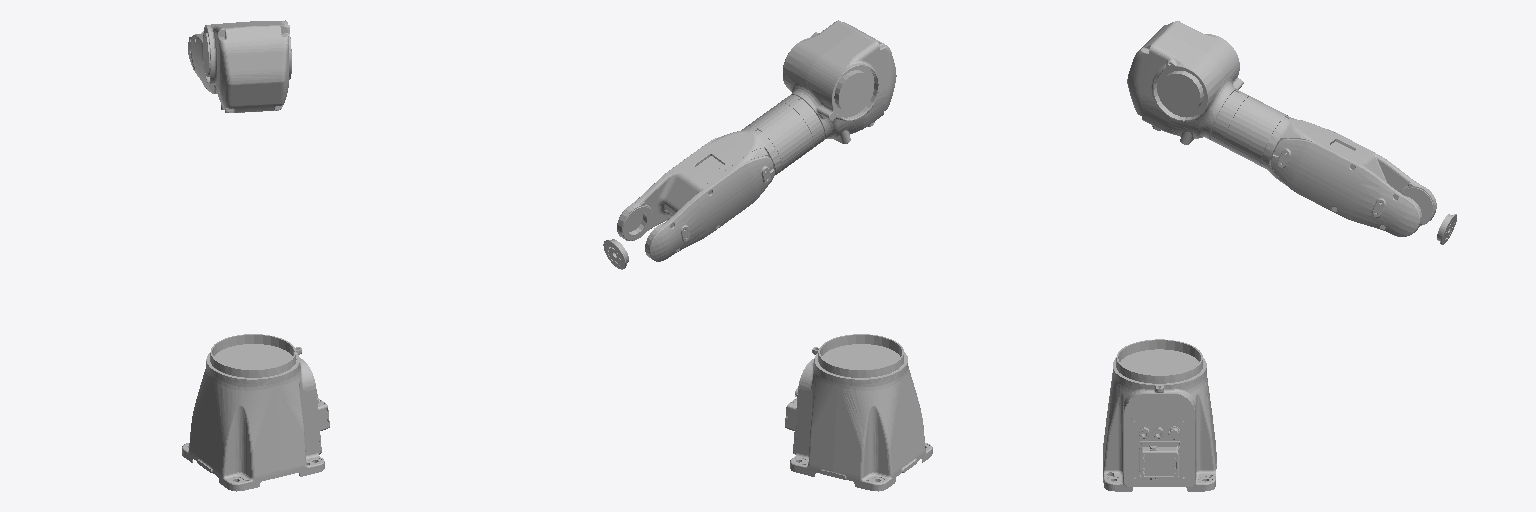
URDF robot description (GP7Robot):
<?xml version="1.0" encoding="utf-8"?>
<!-- This URDF was automatically created by SolidWorks to URDF Exporter! Originally created by Stephen Brawner (brawner@gmail.com) 
     Commit Version: 1.6.0-4-g7f85cfe  Build Version: 1.6.7995.38578
     For more information, please see http://wiki.ros.org/sw_urdf_exporter -->
<robot
  name="GP7Robot">
  <link
    name="base_link">
    <inertial>
      <origin
        xyz="0.00557004423745245 0.0947578598994955 1.25475616866969E-06"
        rpy="0 0 0" />
      <mass
        value="5.21535720192103" />
      <inertia
        ixx="0.0260255175008665"
        ixy="-0.000139873884280872"
        ixz="2.60386324335201E-05"
        iyy="0.0217201855959046"
        iyz="-4.77039716223905E-05"
        izz="0.0252947855021259" />
    </inertial>
    <visual>
      <origin
        xyz="0 0 0"
        rpy="0 0 0" />
      <geometry>
        <mesh
          filename="package://gp7robot_description/meshes/base_link.STL" />
      </geometry>
      <material
        name="">
        <color
          rgba="0.752941176470588 0.752941176470588 0.752941176470588 1" />
      </material>
    </visual>
    <collision>
      <origin
        xyz="0 0 0"
        rpy="0 0 0" />
      <geometry>
        <mesh
          filename="package://gp7robot_description/meshes/base_link.STL" />
      </geometry>
    </collision>
  </link>
  <link
    name="Link 1">
    <inertial>
      <origin
        xyz="0.000135175847371076 0.0998493397055882 -0.0156725278400625"
        rpy="0 0 0" />
      <mass
        value="2.94466622383767" />
      <inertia
        ixx="0.0119470421524349"
        ixy="-1.20742927519864E-06"
        ixz="1.69439326616052E-06"
        iyy="0.00886872028402424"
        iyz="0.0021793031748369"
        izz="0.0111813537709403" />
    </inertial>
    <visual>
      <origin
        xyz="0 0 0"
        rpy="0 0 0" />
      <geometry>
        <mesh
          filename="package://gp7robot_description/meshes/Link 1.STL" />
      </geometry>
      <material
        name="">
        <color
          rgba="0.752941176470588 0.752941176470588 0.752941176470588 1" />
      </material>
    </visual>
    <collision>
      <origin
        xyz="0 0 0"
        rpy="0 0 0" />
      <geometry>
        <mesh
          filename="package://gp7robot_description/meshes/Link 1.STL" />
      </geometry>
    </collision>
  </link>
  <joint
    name="joint1"
    type="revolute">
    <origin
      xyz="0 0 0.190099999998071"
      rpy="1.5707963267949 0 2.74626231701148" />
    <parent
      link="base_link" />
    <child
      link="Link 1" />
    <axis
      xyz="0 1 0" />
    <limit
      lower="-1.76541379939274"
      upper="4.16870565738798"
      effort="100" velocity="2.0" />
  </joint>
  <link
    name="Link2">
    <inertial>
      <origin
        xyz="0.0276250394014396 0.000201786774108381 -0.194989270302389"
        rpy="0 0 0" />
      <mass
        value="6.24053510551982" />
      <inertia
        ixx="0.126299168537797"
        ixy="4.28260764259725E-05"
        ixz="-0.000192709075161321"
        iyy="0.110519808755977"
        iyz="0.000482712485627823"
        izz="0.0277564679772804" />
    </inertial>
    <visual>
      <origin
        xyz="0 0 0"
        rpy="0 0 0" />
      <geometry>
        <mesh
          filename="package://gp7robot_description/meshes/Link2.STL" />
      </geometry>
      <material
        name="">
        <color
          rgba="0.752941176470588 0.752941176470588 0.752941176470588 1" />
      </material>
    </visual>
    <collision>
      <origin
        xyz="0 0 0"
        rpy="0 0 0" />
      <geometry>
        <mesh
          filename="package://gp7robot_description/meshes/Link2.STL" />
      </geometry>
    </collision>
  </link>
  <joint
    name="Joint2"
    type="revolute">
    <origin
      xyz="0 0.139900000002421 -0.0400000001857544"
      rpy="3.14159265358528 -1.32485271953912 -1.57079632679068" />
    <parent
      link="Link 1" />
    <child
      link="Link2" />
    <axis
      xyz="0 1 0" />
    <limit
      lower="-1.38040762104709"
      upper="1.84845149514013"
      effort="100" velocity="2.0" />
  </joint>
  <link
    name="Link3">
    <inertial>
      <origin
        xyz="-0.0159082595376027 -0.000853249743919083 0.0200553785486537"
        rpy="0 0 0" />
      <mass
        value="2.84913837324111" />
      <inertia
        ixx="0.00823186831904539"
        ixy="2.89659835771153E-05"
        ixz="-0.000903653059816634"
        iyy="0.00779151300608256"
        iyz="-3.86482176480428E-05"
        izz="0.0069341741094685" />
    </inertial>
    <visual>
      <origin
        xyz="0 0 0"
        rpy="0 0 0" />
      <geometry>
        <mesh
          filename="package://gp7robot_description/meshes/Link3.STL" />
      </geometry>
      <material
        name="">
        <color
          rgba="0.752941176470588 0.752941176470588 0.752941176470588 1" />
      </material>
    </visual>
    <collision>
      <origin
        xyz="0 0 0"
        rpy="0 0 0" />
      <geometry>
        <mesh
          filename="package://gp7robot_description/meshes/Link3.STL" />
      </geometry>
    </collision>
  </link>
  <joint
    name="Joint3"
    type="revolute">
    <origin
      xyz="0 0 -0.44500000000018"
      rpy="0 -0.0907821564242992 0" />
    <parent
      link="Link2" />
    <child
      link="Link3" />
    <axis
      xyz="0 1 0" />
    <limit
      lower="-0.0837507687984118"
      upper="4.45410528641014"
      effort="100" velocity="2.0" />
  </joint>
  <link
    name="Link4">
    <inertial>
      <origin
        xyz="0.153693675039085 -0.000152617750926121 -0.000159483150896755"
        rpy="0 0 0" />
      <mass
        value="2.7553796365777" />
      <inertia
        ixx="0.00308591624378863"
        ixy="4.01240276807244E-06"
        ixz="-0.000318579817117978"
        iyy="0.0100845047615701"
        iyz="-2.48127439930312E-06"
        izz="0.0107849938934048" />
    </inertial>
    <visual>
      <origin
        xyz="0 0 0"
        rpy="0 0 0" />
      <geometry>
        <mesh
          filename="package://gp7robot_description/meshes/Link4.STL" />
      </geometry>
      <material
        name="">
        <color
          rgba="0.752941176470588 0.752941176470588 0.752941176470588 1" />
      </material>
    </visual>
    <collision>
      <origin
        xyz="0 0 0"
        rpy="0 0 0" />
      <geometry>
        <mesh
          filename="package://gp7robot_description/meshes/Link4.STL" />
      </geometry>
    </collision>
  </link>
  <joint
    name="Join4"
    type="revolute">
    <origin
      xyz="0.0920740623311247 0 0.0399999999343004"
      rpy="-1.74532808563031 0 0" />
    <parent
      link="Link3" />
    <child
      link="Link4" />
    <axis
      xyz="1 0 0" />
    <limit
      lower="-3.31612557878923"
      upper="3.31612557878923"
      effort="100" velocity="2.0" />
  </joint>
  <link
    name="Link5">
    <inertial>
      <origin
        xyz="0.000253905179058656 0.0132104915143856 -0.00174847412765622"
        rpy="0 0 0" />
      <mass
        value="0.245886315027121" />
      <inertia
        ixx="0.00013953459466373"
        ixy="-2.11774099242541E-06"
        ixz="1.96195390391365E-07"
        iyy="0.000156835347527326"
        iyz="-1.29214249598E-06"
        izz="0.00018561687083866" />
    </inertial>
    <visual>
      <origin
        xyz="0 0 0"
        rpy="0 0 0" />
      <geometry>
        <mesh
          filename="package://gp7robot_description/meshes/Link5.STL" />
      </geometry>
      <material
        name="">
        <color
          rgba="0.752941176470588 0.752941176470588 0.752941176470588 1" />
      </material>
    </visual>
    <collision>
      <origin
        xyz="0 0 0"
        rpy="0 0 0" />
      <geometry>
        <mesh
          filename="package://gp7robot_description/meshes/Link5.STL" />
      </geometry>
    </collision>
  </link>
  <joint
    name="Join5"
    type="revolute">
    <origin
      xyz="0.347925937670314 0 0"
      rpy="-3.14159265358979 0 1.61712522694328" />
    <parent
      link="Link4" />
    <child
      link="Link5" />
    <axis
      xyz="0 0 -1" />
    <limit
      lower="-2.40252339028479"
      upper="2.30986559009995"
      effort="100" velocity="2.0" />
  </joint>
  <link
    name="Link6">
    <inertial>
      <origin
        xyz="0.0152208875675307 -6.62017430815842E-05 -9.17237854280994E-06"
        rpy="0 0 0" />
      <mass
        value="0.0241915724295805" />
      <inertia
        ixx="8.98081073180345E-06"
        ixy="2.05697657592742E-09"
        ixz="2.84997957102465E-10"
        iyy="4.83490969011546E-06"
        iyz="3.31152949531025E-09"
        izz="4.81146750785479E-06" />
    </inertial>
    <visual>
      <origin
        xyz="0 0 0"
        rpy="0 0 0" />
      <geometry>
        <mesh
          filename="package://gp7robot_description/meshes/Link6.STL" />
      </geometry>
      <material
        name="">
        <color
          rgba="0.752941176470588 0.752941176470588 0.752941176470588 1" />
      </material>
    </visual>
    <collision>
      <origin
        xyz="0 0 0"
        rpy="0 0 0" />
      <geometry>
        <mesh
          filename="package://gp7robot_description/meshes/Link6.STL" />
      </geometry>
    </collision>
  </link>
  <joint
    name="Joint6"
    type="revolute">
    <origin
      xyz="0 0.0588933222966525 0"
      rpy="-2.42503219681164 0 1.57079632685086" />
    <parent
      link="Link5" />
    <child
      link="Link6" />
    <axis
      xyz="-1 0 0" />
    <limit
      lower="-2.42328686755966"
      upper="3.85640778111595"
      effort="100" velocity="2.0" />
  </joint>

  <ros2_control name="GP7GazeboSystem" type="system">
    <hardware>
      <plugin>gz_ros2_control/GazeboSimSystem</plugin>
    </hardware>

    <joint name="joint1">
      <command_interface name="position"/>
      <state_interface name="position"/>
      <state_interface name="velocity"/>
    </joint>

    <joint name="Joint2">
      <command_interface name="position"/>
      <state_interface name="position"/>
      <state_interface name="velocity"/>
    </joint>

    <joint name="Joint3">
      <command_interface name="position"/>
      <state_interface name="position"/>
      <state_interface name="velocity"/>
    </joint>

    <joint name="Join4">
      <command_interface name="position"/>
      <state_interface name="position"/>
      <state_interface name="velocity"/>
    </joint>

    <joint name="Join5">
      <command_interface name="position"/>
      <state_interface name="position"/>
      <state_interface name="velocity"/>
    </joint>

    <joint name="Joint6">
      <command_interface name="position"/>
      <state_interface name="position"/>
      <state_interface name="velocity"/>
    </joint>
  </ros2_control>

  <gazebo>
    <plugin filename="libgz_ros2_control-system.so"
            name="gz_ros2_control::GazeboSimROS2ControlPlugin">
      <parameters>CONTROLLERS_YAML_PATH</parameters>
    </plugin>
  </gazebo>

</robot>

--- Render facts (derived) ---
Views: 3 orthographic renders of the robot side by side, from view 1: azimuth 30°, elevation 25°; view 2: azimuth 150°, elevation 25°; view 3: azimuth 270°, elevation 25°.
Model GP7Robot with 7 links and 6 joints (6 revolute), rooted at base_link, posed all joints at 0.
Links seen in each view (by area): view 1: base_link, Link3, Link4; view 2: base_link, Link4, Link3; view 3: base_link, Link4, Link3.
Boxes of the visible links, <box> form: base_link: <box>182,334,329,491</box>; Link3: <box>203,20,291,112</box>; Link4: <box>188,34,216,93</box>; base_link: <box>785,334,932,491</box>; Link4: <box>617,95,824,261</box>; Link3: <box>783,20,896,143</box>; base_link: <box>1103,339,1216,491</box>; Link4: <box>1211,90,1436,236</box>; Link3: <box>1127,21,1243,144</box>.
Size in the robot's own frame: 0.3379 by 0.6183 by 0.8392 metres.
4 mesh visuals loaded from 7 distinct referenced files (4 binary STL); not drawn: 3 (file found but could not be loaded).
